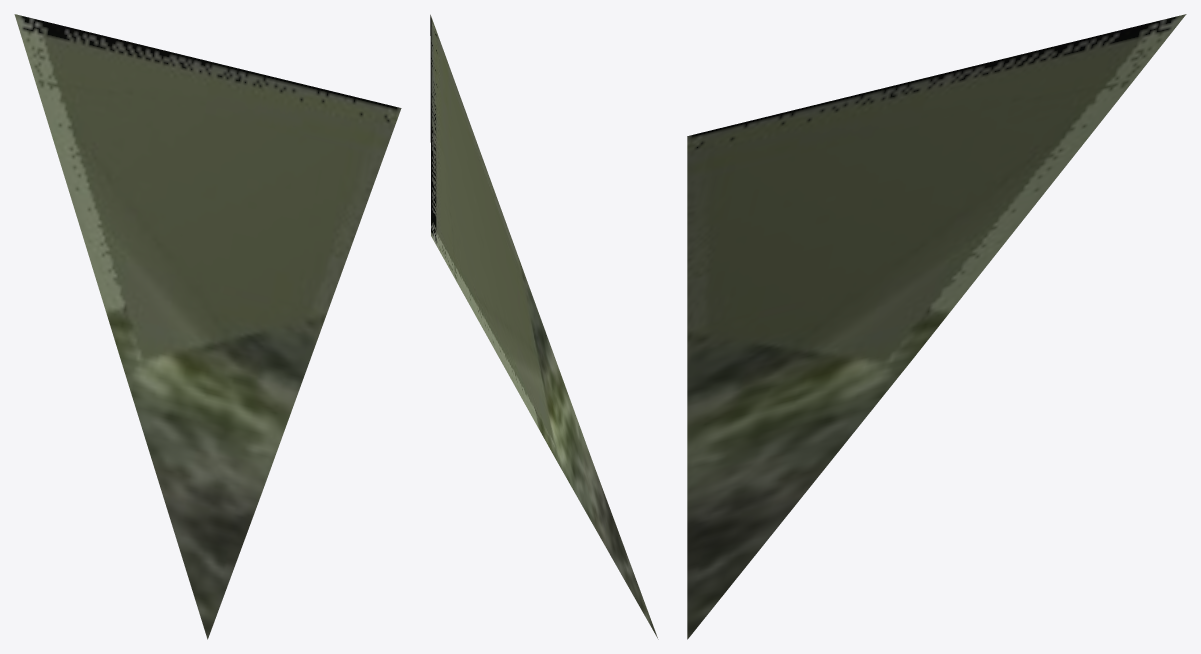
The picture shows the model from 3 angles, left to right: view 1: azimuth 30°, elevation 25°; view 2: azimuth 150°, elevation 25°; view 3: azimuth 270°, elevation 25°; orthographic projection. The views are drawn at different scales.
Size of the model in its own units: 1.46 by 3.5 by 2.53.
Materials: 1 (1 with a texture image).
